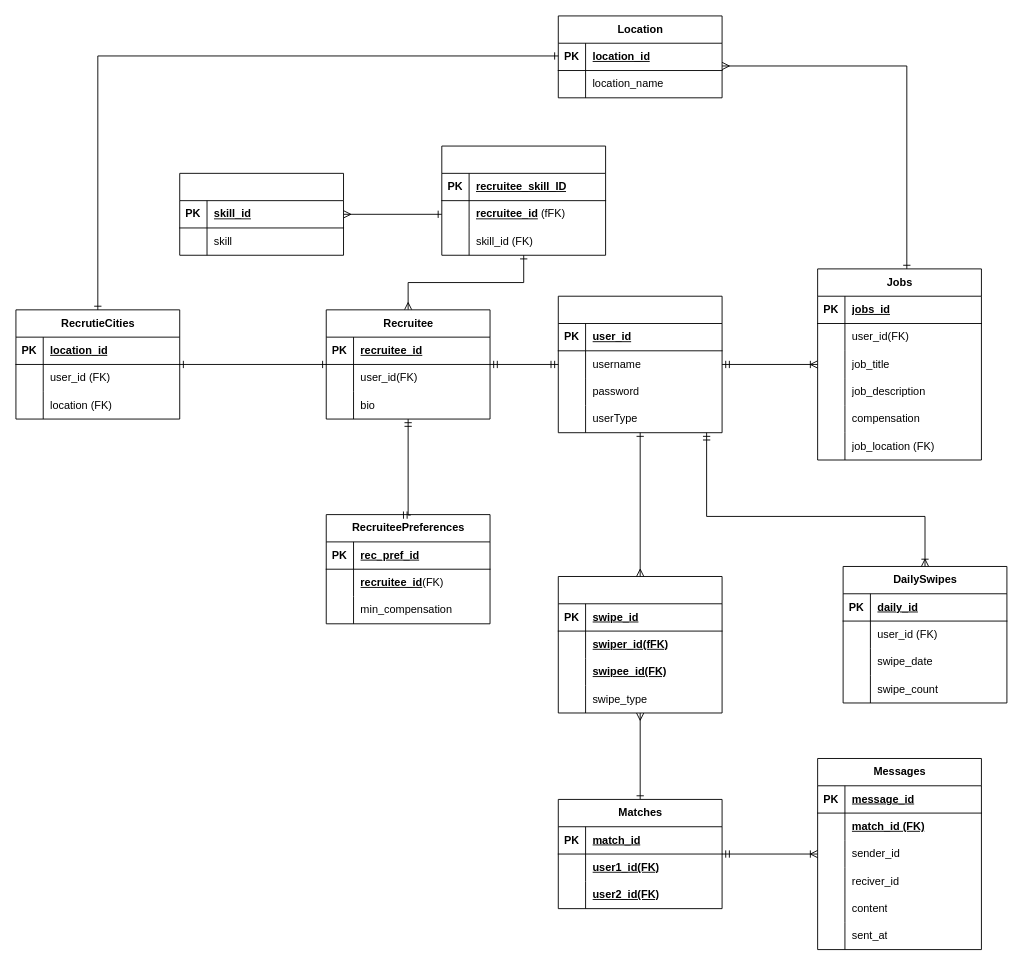
The diagram is 1023 pixels wide and 966 high, and some of its shapes have lost their labels. The box of each missing label's shape, as (x1, y1, x2, y2) in pixels:
RecruiteeSkills: (441, 145, 606, 255)
Skills: (179, 172, 344, 255)
Users: (557, 295, 722, 433)
UserSwipes: (557, 576, 722, 713)
